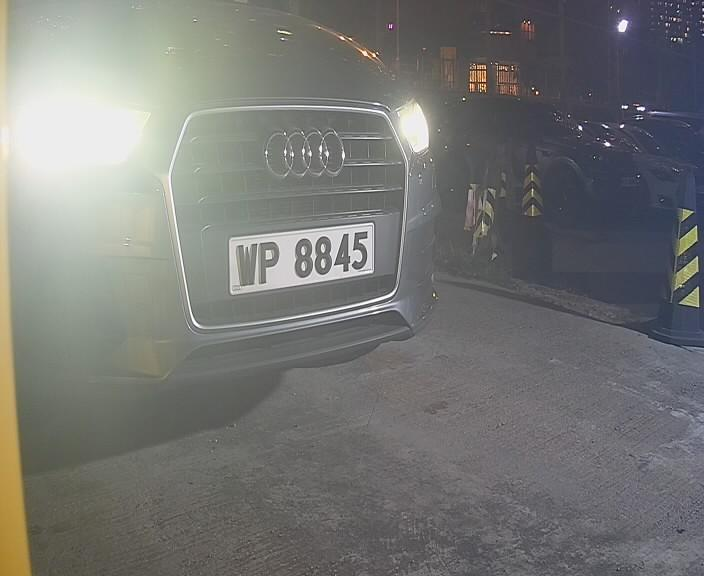Car: (23, 21, 532, 427)
License Plate: (224, 211, 384, 301)
